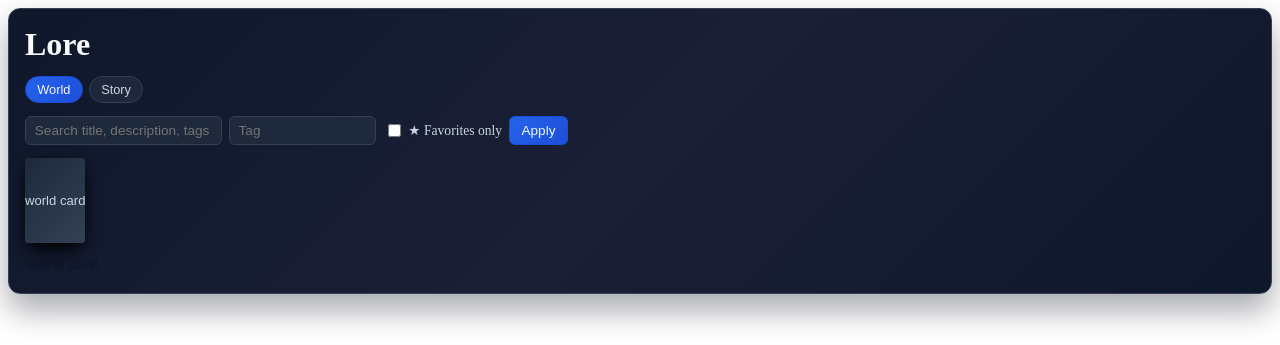
Test: GalleryPage artifact tab filtering › honors custom Lore tabs (World/Story) and requests matching artifact_type
Expected: the button with aria-label "Open world card" is shown, [25,158,187,277]
Click the tab "Story". click: point(116, 90)
box: [89,76,143,103]
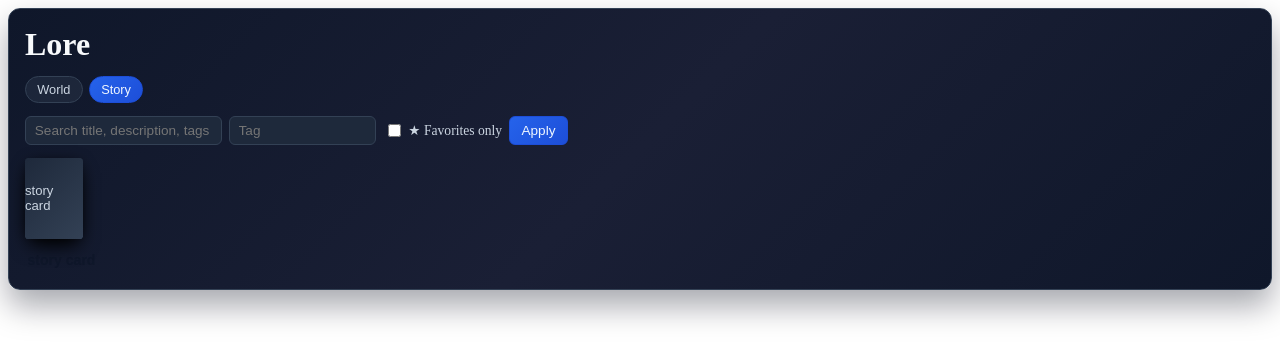
Expected: the button with aria-label "Open story card" is shown, [25,158,187,273]
